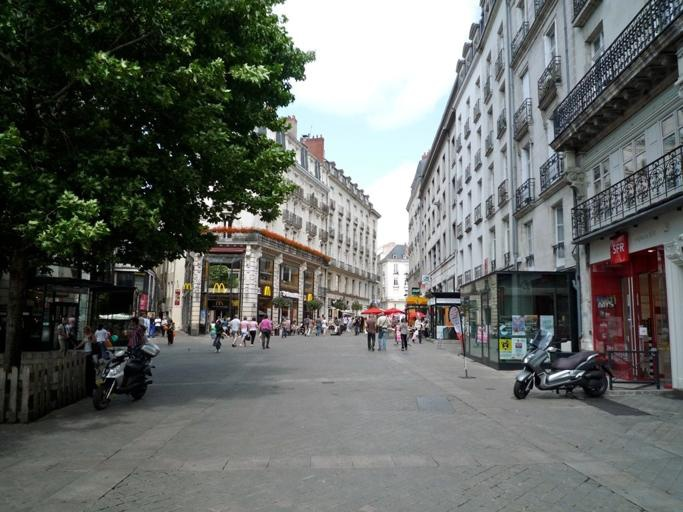non-vehicle: (512, 323, 613, 399), (89, 331, 160, 410)
